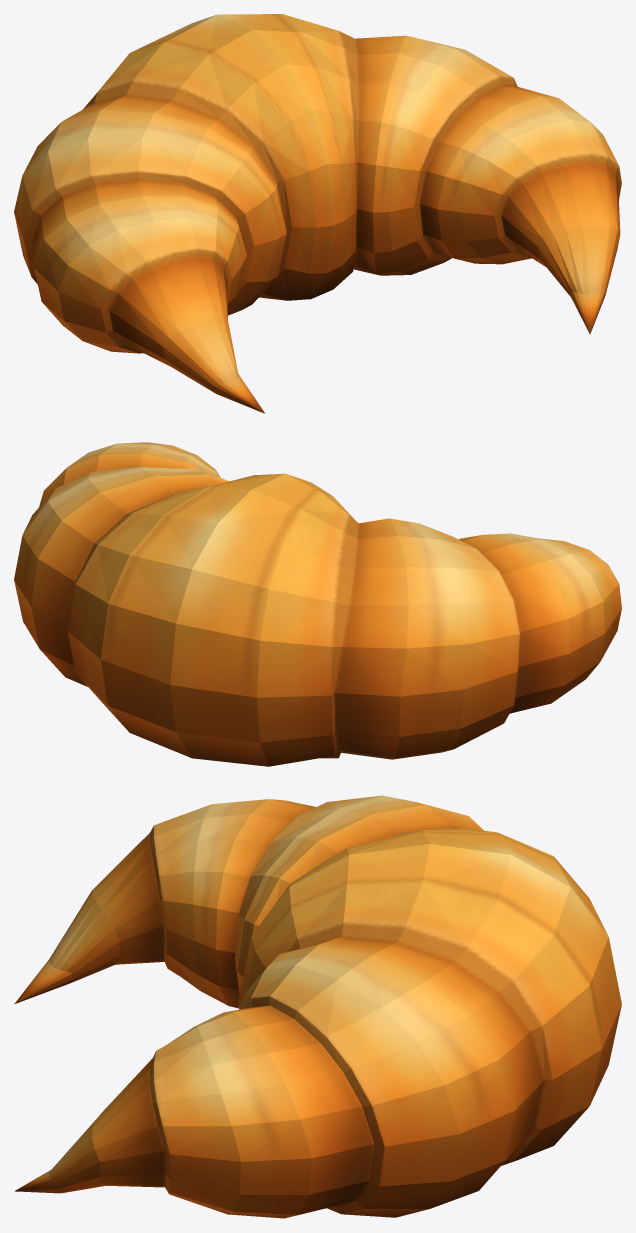
Rendered from FMS_Food_Bread_Croissant.fbx.
3 views of the same model, one above another, from view 1: azimuth 30°, elevation 25°; view 2: azimuth 150°, elevation 25°; view 3: azimuth 270°, elevation 25° (orthographic). The views are drawn at different scales.
Parts seen in each view (by area): view 1: item_food_bread_croissant; view 2: item_food_bread_croissant; view 3: item_food_bread_croissant.
Boxes of the visible parts, x1,y1,x2,y2 form: item_food_bread_croissant: (14,14,621,413); item_food_bread_croissant: (14,442,621,766); item_food_bread_croissant: (14,795,621,1218).
Bounding box in the file's own units: 0.1593 × 0.0648 × 0.1299.
Materials: 1 (1 with a texture image).
